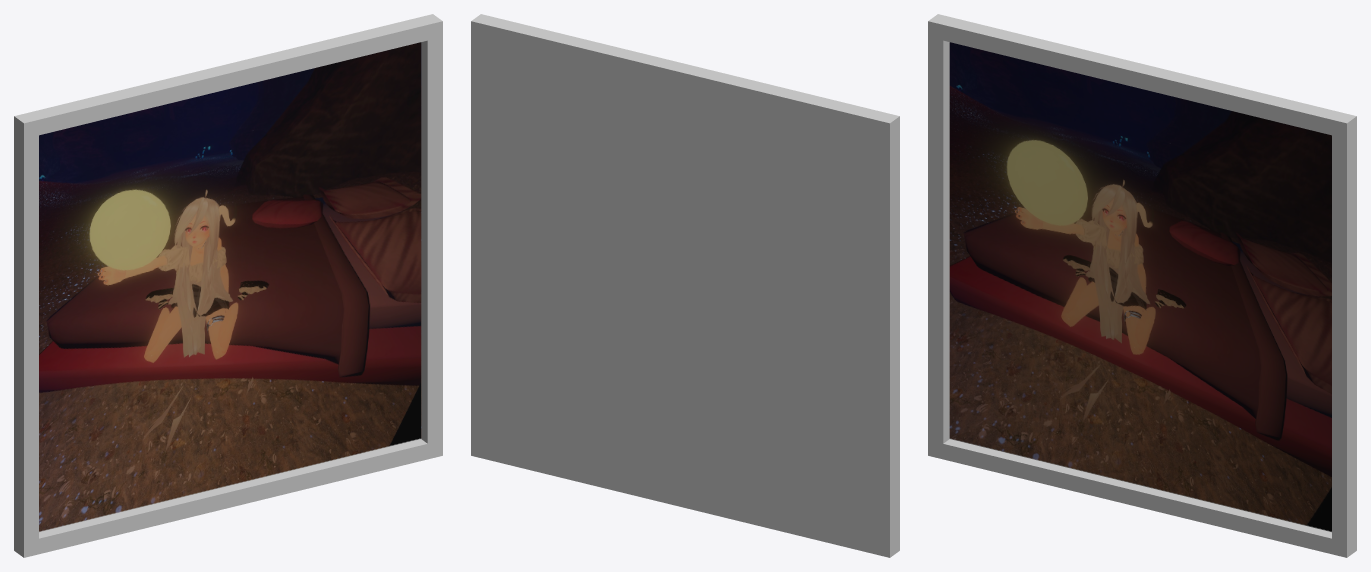
File: photo19.fbx
The picture shows the model from 3 angles, left to right: view 1: azimuth 30°, elevation 25°; view 2: azimuth 150°, elevation 25°; view 3: azimuth 330°, elevation 25°; orthographic projection.
Visible parts, largest first — view 1: Plane.018; view 2: Plane.018; view 3: Plane.018.
Boxes of the visible parts, <box> form: Plane.018: <box>14,14,442,557</box>; Plane.018: <box>471,14,899,557</box>; Plane.018: <box>928,14,1356,557</box>.
Size of the model in its own units: 77.3 by 76.64 by 3.15.
Materials: 2 (1 with a texture image).
